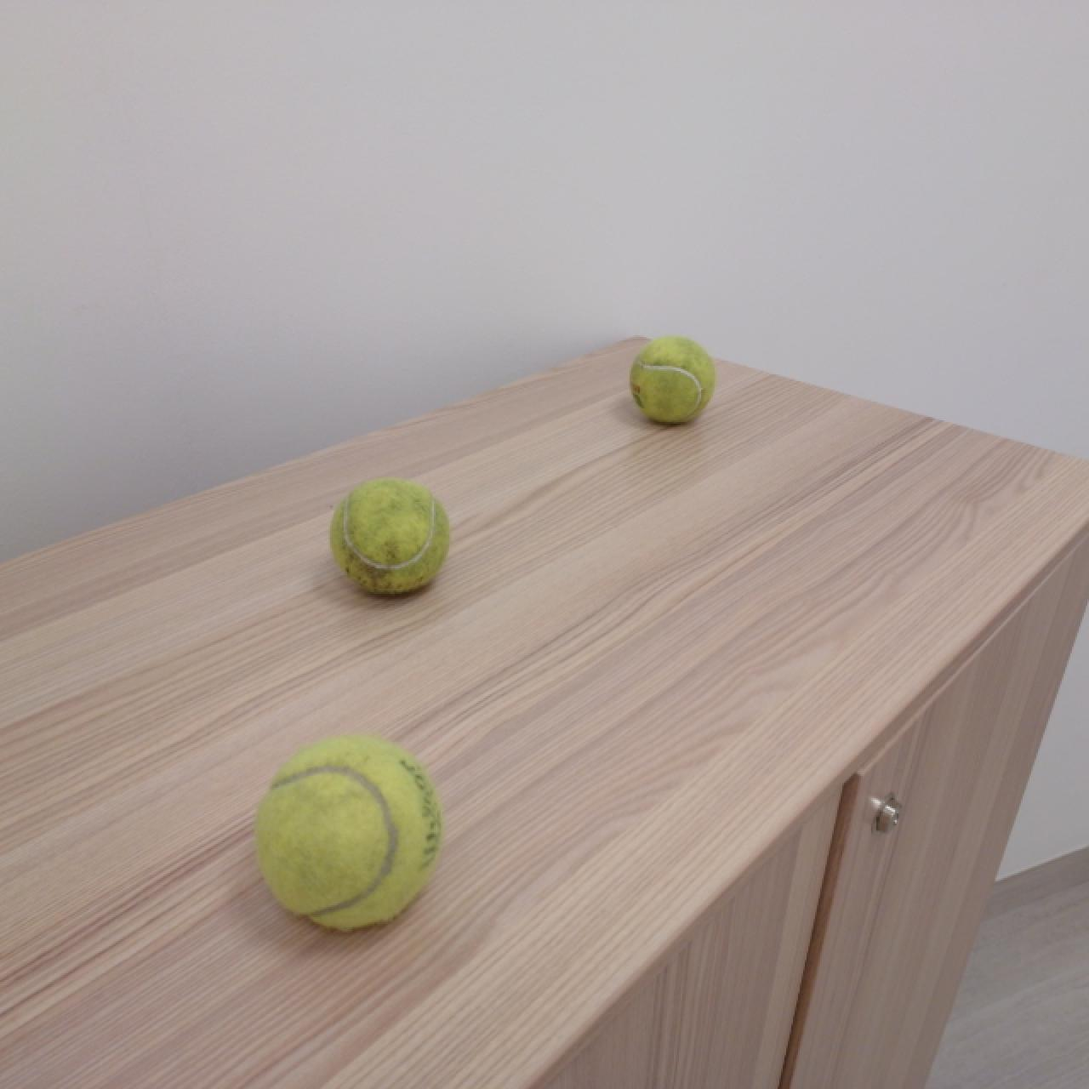tennis-ball: (254, 732, 444, 934), (329, 477, 450, 599), (630, 334, 715, 427)
